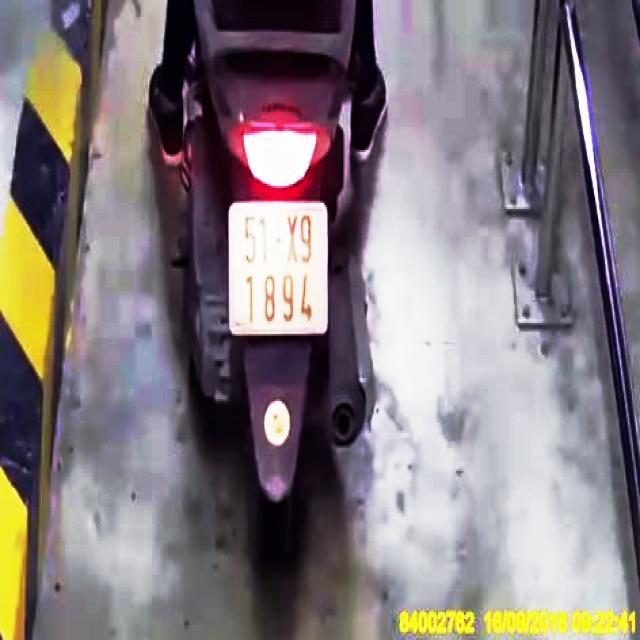license_plate: (231, 206, 330, 335)
